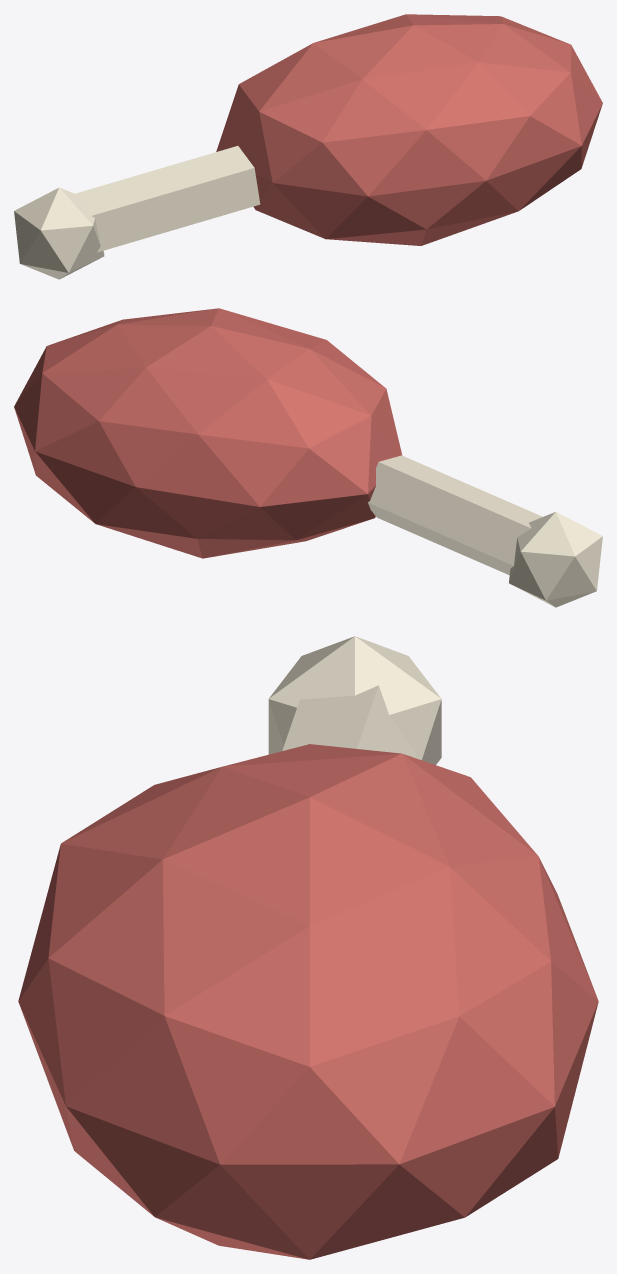
File: meat.glb
3 renders of one model, top to bottom at view 1: azimuth 30°, elevation 25°; view 2: azimuth 150°, elevation 25°; view 3: azimuth 270°, elevation 25°, orthographic. The views are drawn at different scales.
Parts seen in each view (by area): view 1: meat; view 2: meat; view 3: meat.
Boxes of the visible parts, x1=… form: meat: x1=14, y1=14, x2=602, y2=279; meat: x1=14, y1=308, x2=602, y2=607; meat: x1=18, y1=636, x2=598, y2=1259.
Size of the model in its own units: 0.561 by 0.1896 by 0.2566.
